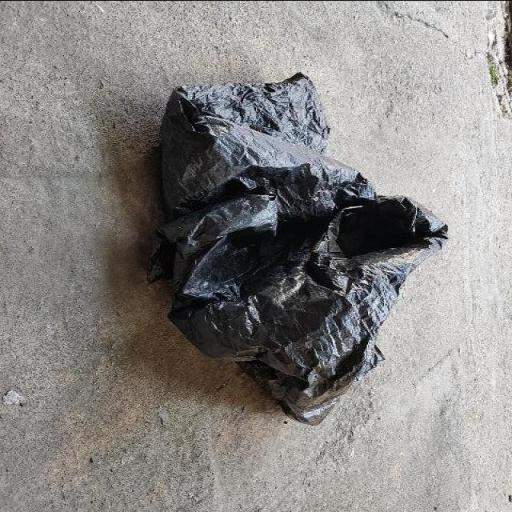plastic-bag: (136, 65, 450, 428)
